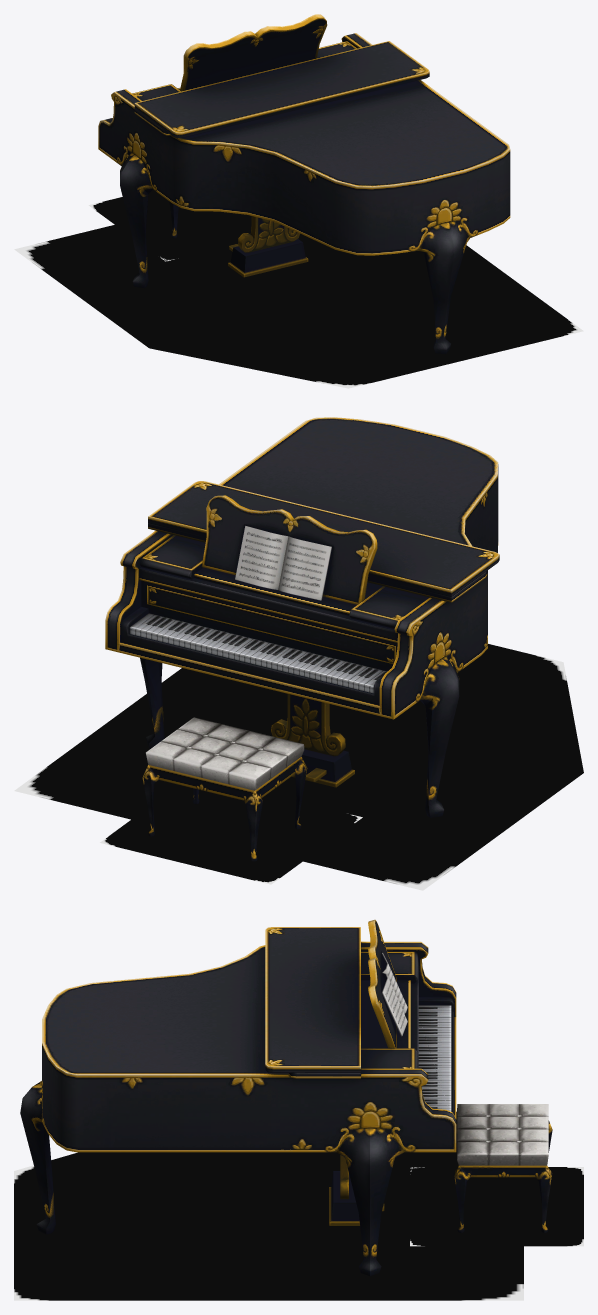
The model's file is jj_ty_piano02.FBX.
3 renders of one model, top to bottom at view 1: azimuth 30°, elevation 25°; view 2: azimuth 150°, elevation 25°; view 3: azimuth 270°, elevation 25°, orthographic. The views are drawn at different scales.
Parts seen in each view (by area): view 1: jj_ty_piano02_01, shadow; view 2: jj_ty_piano02_01, shadow; view 3: jj_ty_piano02_01, shadow.
Part boxes in pixels (x1,y1,x2,y2): jj_ty_piano02_01: [98, 14, 510, 354]; shadow: [14, 189, 583, 388]; jj_ty_piano02_01: [105, 417, 499, 861]; shadow: [14, 644, 583, 890]; jj_ty_piano02_01: [20, 919, 552, 1275]; shadow: [14, 1111, 583, 1300].
Size of the model in its own units: 72.63 by 45.8 by 92.59.
